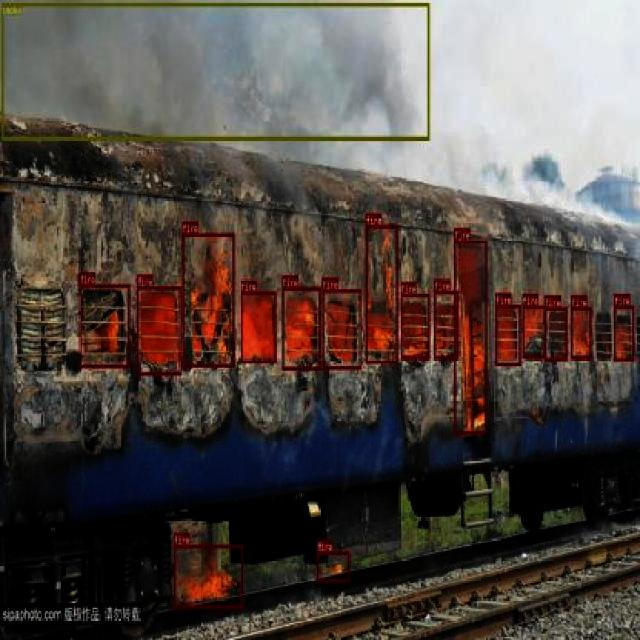fire: (182, 232, 235, 366), (454, 239, 486, 433), (365, 225, 398, 362), (173, 544, 242, 608), (79, 283, 130, 368), (136, 286, 181, 374), (322, 288, 362, 368), (282, 288, 321, 370), (240, 292, 276, 362), (400, 293, 429, 359), (434, 291, 458, 358), (495, 304, 520, 366), (544, 306, 567, 362), (522, 305, 546, 358), (570, 306, 592, 359), (614, 306, 634, 360), (316, 550, 349, 582)
smoke: (2, 3, 430, 139)
